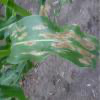Corn leaf blight: (8, 18, 100, 65)
